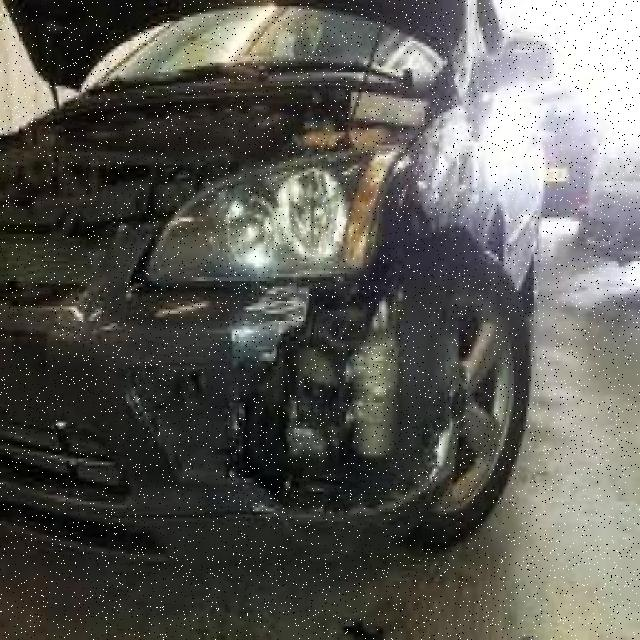damage: (147, 184, 456, 551)
